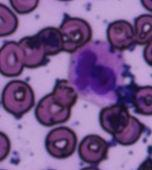N: (68, 39, 128, 105)
